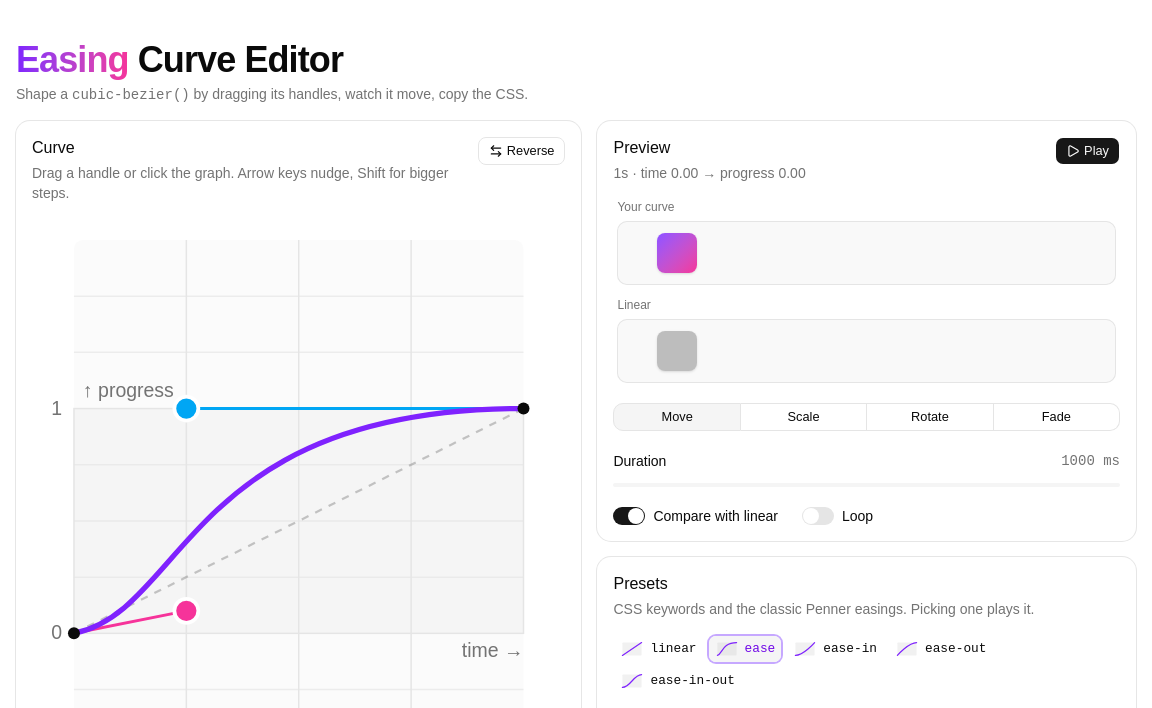
Test: preview › keeps going when looping
The width and height of the screenshot is (1152, 708).
Click the switch named "Loop" next to "Loop" at (818, 516), box [802,507,834,525]
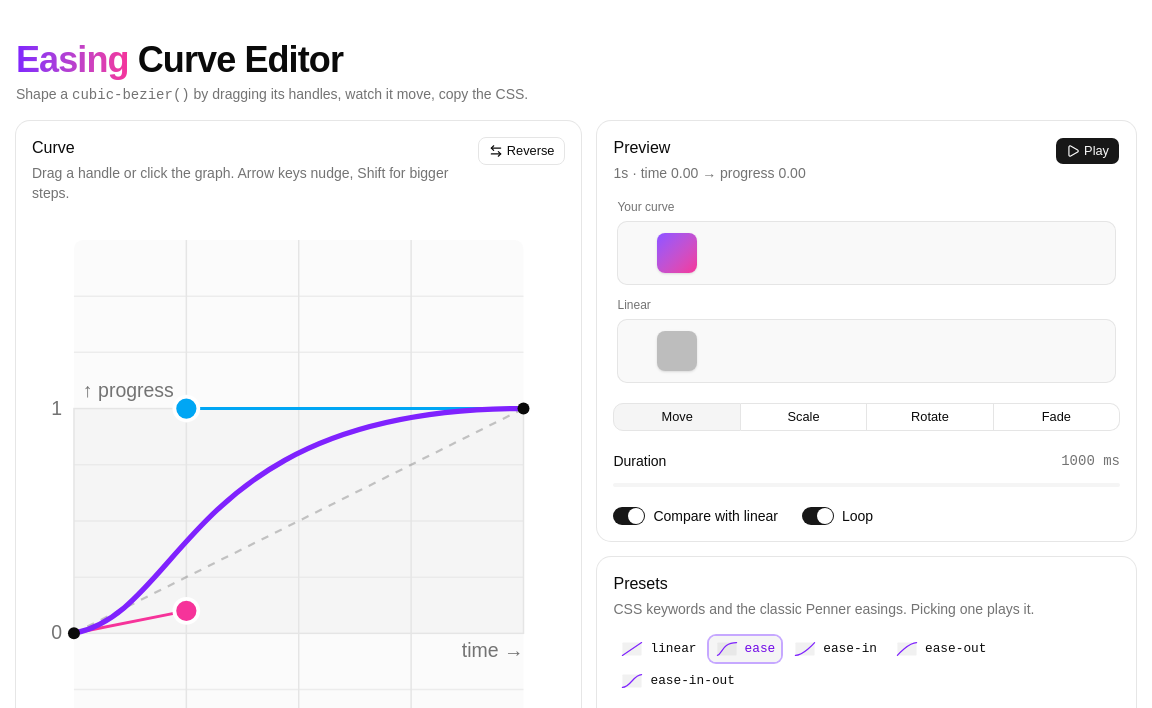
Check: the switch named "Loop" next to "Loop" is checked, box [802,507,834,525]
Click the button "Play" at (1088, 151), box [1055,137,1120,165]
Wait 5000 ms
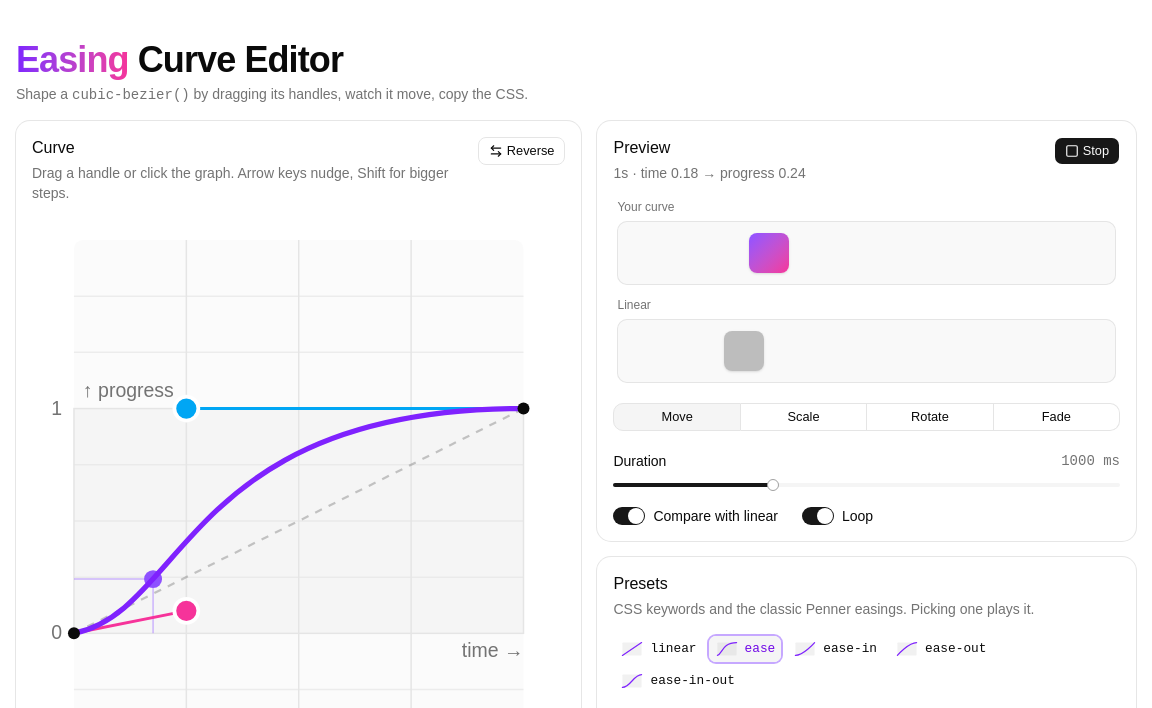
Check: the button "Stop" is shown, box [1054,137,1120,165]
